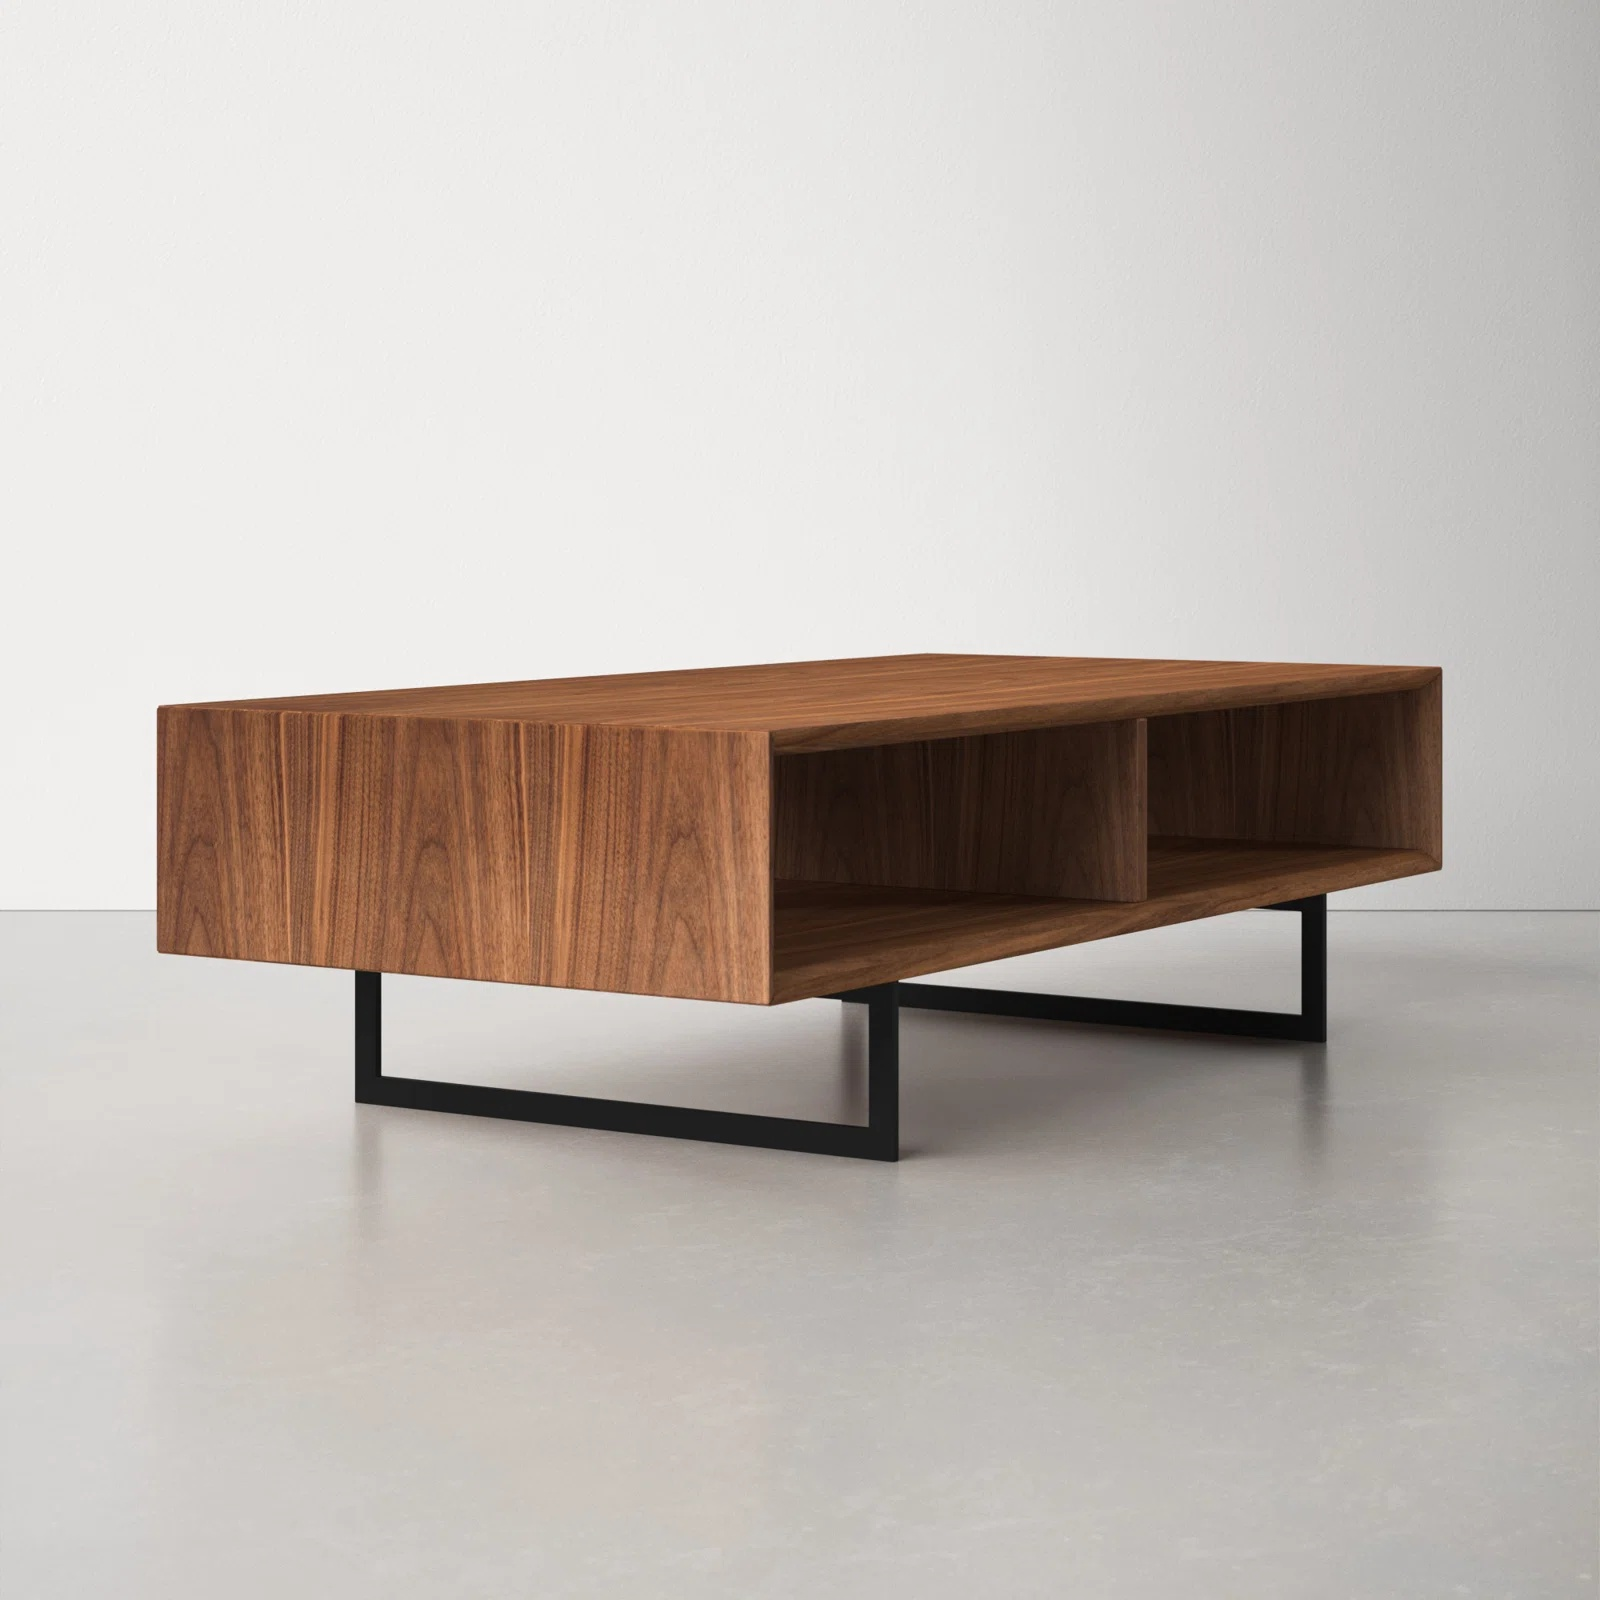obstacle: (158, 653, 1440, 1159)
